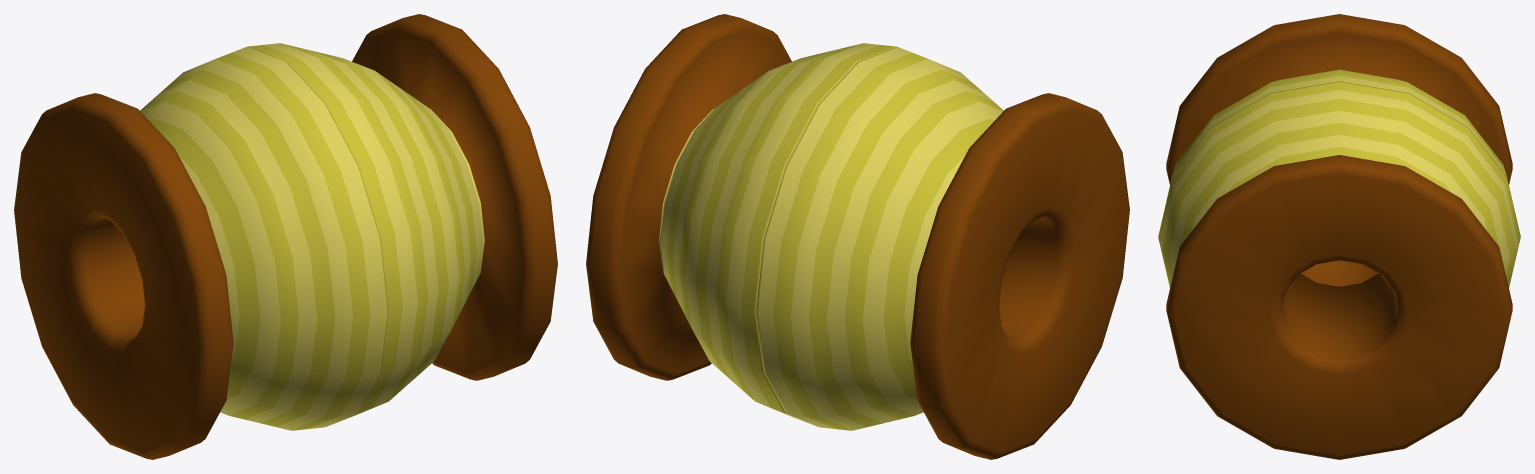
Rendered from SM_Yarn_01a.fbx.
3 renders of one model, left to right at view 1: azimuth 30°, elevation 25°; view 2: azimuth 150°, elevation 25°; view 3: azimuth 270°, elevation 25°, orthographic. The views are drawn at different scales.
Parts seen in each view (by area): view 1: Yarn_02, Yarn_01; view 2: Yarn_02, Yarn_01; view 3: Yarn_01, Yarn_02.
Part boxes in pixels (x1=…): Yarn_02: x1=14, y1=46, x2=387, y2=459; Yarn_01: x1=248, y1=14, x2=557, y2=426; Yarn_02: x1=756, y1=46, x2=1129, y2=459; Yarn_01: x1=586, y1=14, x2=895, y2=426; Yarn_01: x1=1158, y1=81, x2=1520, y2=459; Yarn_02: x1=1166, y1=14, x2=1512, y2=286.
Bounding box in the file's own units: 30.14 × 28.24 × 29.76.
